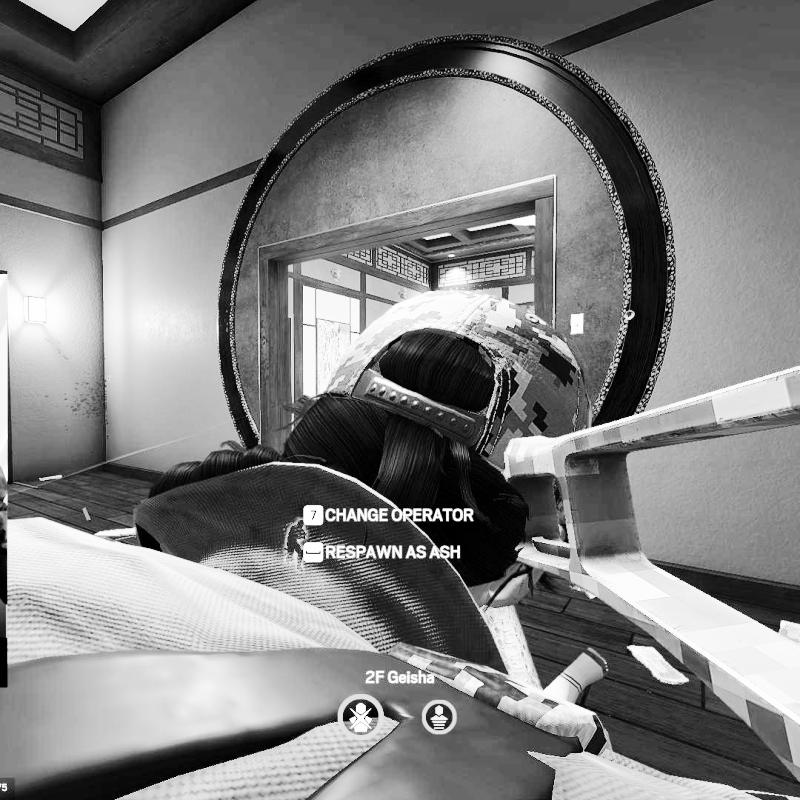Character: (10, 286, 767, 800)
Head: (295, 292, 595, 580)
